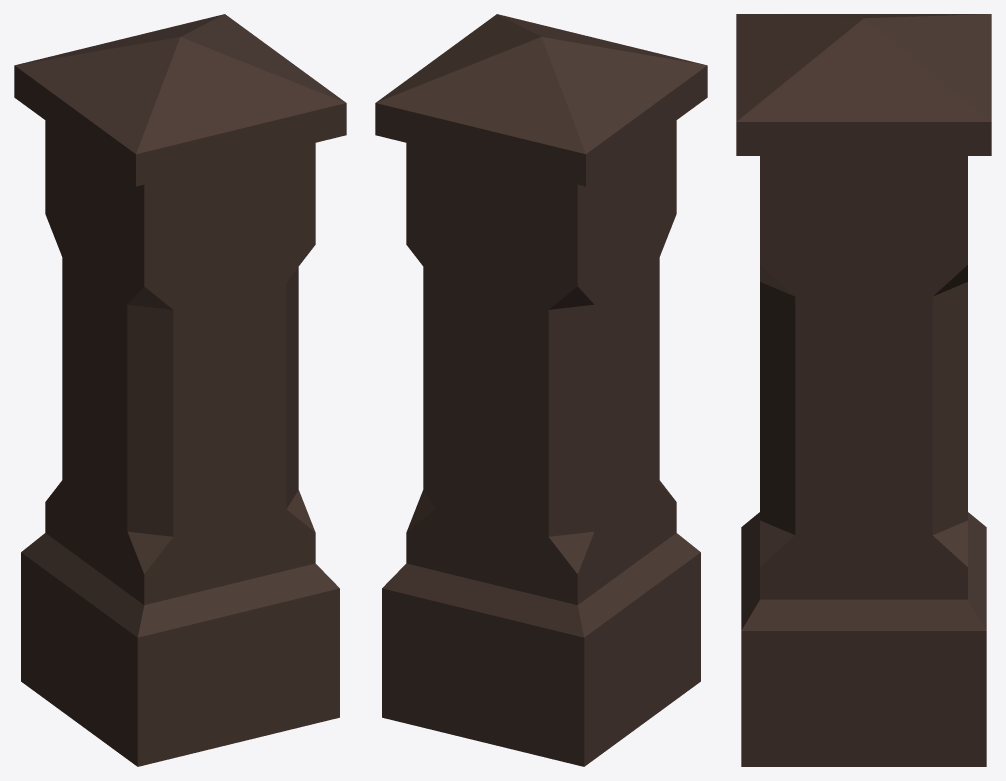
Rendered from LPHorror_RailingPost.fbx.
The picture shows the model from 3 angles, left to right: view 1: azimuth 30°, elevation 25°; view 2: azimuth 150°, elevation 25°; view 3: azimuth 270°, elevation 25°; orthographic projection. The views are drawn at different scales.
Visible parts, largest first — view 1: RailingPost; view 2: RailingPost; view 3: RailingPost.
Boxes of the visible parts, x1=… form: RailingPost: x1=14, y1=14, x2=346, y2=766; RailingPost: x1=375, y1=14, x2=707, y2=766; RailingPost: x1=736, y1=14, x2=991, y2=766.
Bounding box in the file's own units: 42.5 × 128 × 42.5.
